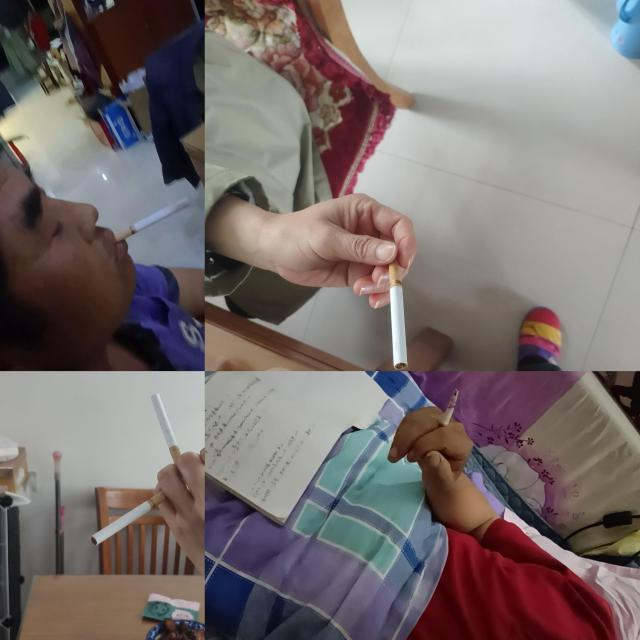smoking: (90, 490, 170, 547), (113, 197, 191, 243), (151, 392, 189, 478), (387, 256, 410, 371), (437, 388, 460, 434)
